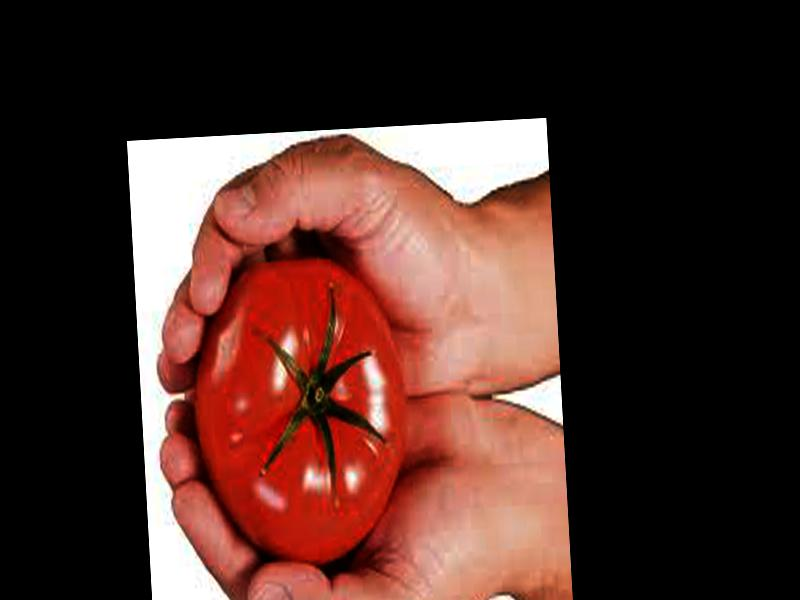Tomato: (189, 250, 411, 571)
